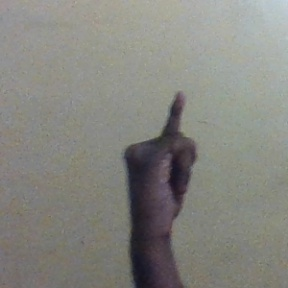I: (122, 88, 200, 225)
